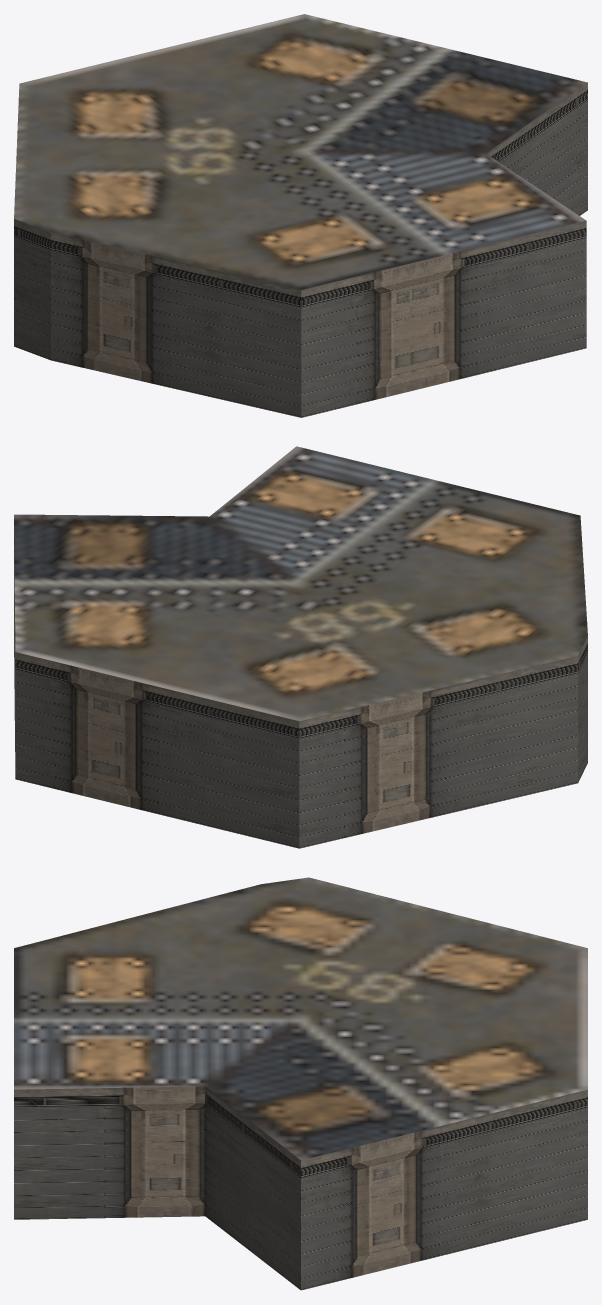
Rendered from hangar_heavy_a_68.glb.
3 renders of one model, top to bottom at view 1: azimuth 30°, elevation 25°; view 2: azimuth 150°, elevation 25°; view 3: azimuth 270°, elevation 25°, orthographic. The views are drawn at different scales.
Visible parts, largest first — view 1: buildings/saxarba/hangar_heavy/hangar_heavy_a_68; view 2: buildings/saxarba/hangar_heavy/hangar_heavy_a_68; view 3: buildings/saxarba/hangar_heavy/hangar_heavy_a_68.
Boxes of the visible parts, x1,y1,x2,y2 form: buildings/saxarba/hangar_heavy/hangar_heavy_a_68: (14, 14, 587, 417); buildings/saxarba/hangar_heavy/hangar_heavy_a_68: (14, 446, 587, 848); buildings/saxarba/hangar_heavy/hangar_heavy_a_68: (14, 877, 587, 1290).
Size of the model in its own units: 84 by 18 by 72.
